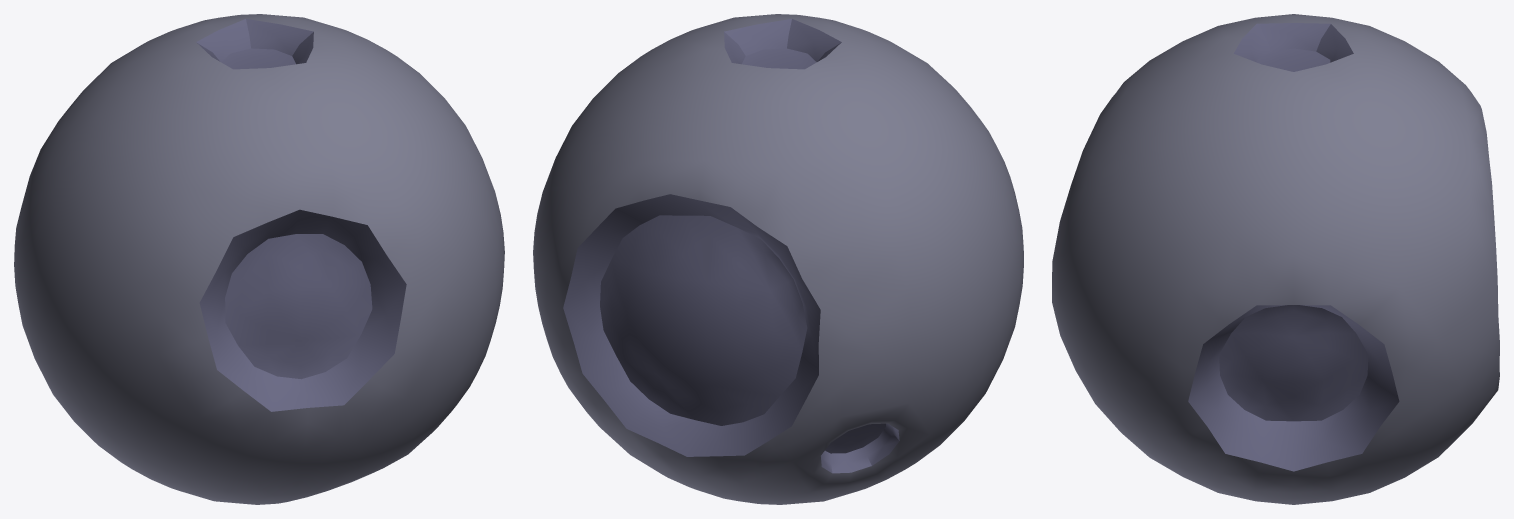
Rendered from Planet 3.glb.
The picture shows the model from 3 angles, left to right: view 1: azimuth 30°, elevation 25°; view 2: azimuth 150°, elevation 25°; view 3: azimuth 270°, elevation 25°; orthographic projection.
Parts seen in each view (by area): view 1: Planet_3; view 2: Planet_3; view 3: Planet_3.
Part boxes in pixels (bbox=[...]): Planet_3: bbox=[14, 14, 504, 504]; Planet_3: bbox=[533, 14, 1023, 504]; Planet_3: bbox=[1052, 14, 1499, 504].
Bounding box in the file's own units: 3.66 × 3.68 × 3.41.
Materials: 1 (1 with a texture image).
